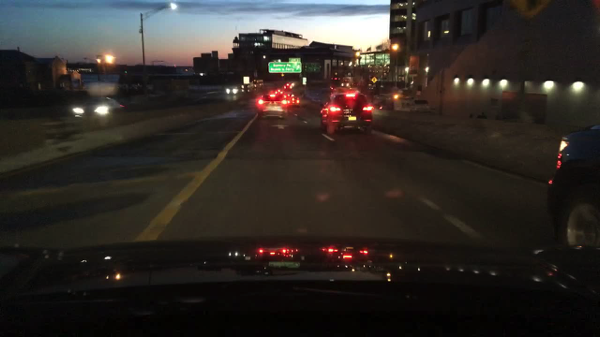car: (548, 124, 599, 249), (319, 91, 374, 136), (74, 98, 125, 118), (257, 94, 289, 120), (408, 99, 432, 114), (286, 93, 300, 107), (225, 84, 241, 96), (341, 76, 353, 87), (253, 79, 264, 88), (241, 83, 252, 92), (283, 82, 293, 90), (275, 88, 284, 96)
traffic sign: (267, 62, 301, 73), (305, 62, 321, 73), (286, 57, 301, 62), (369, 77, 378, 83)
